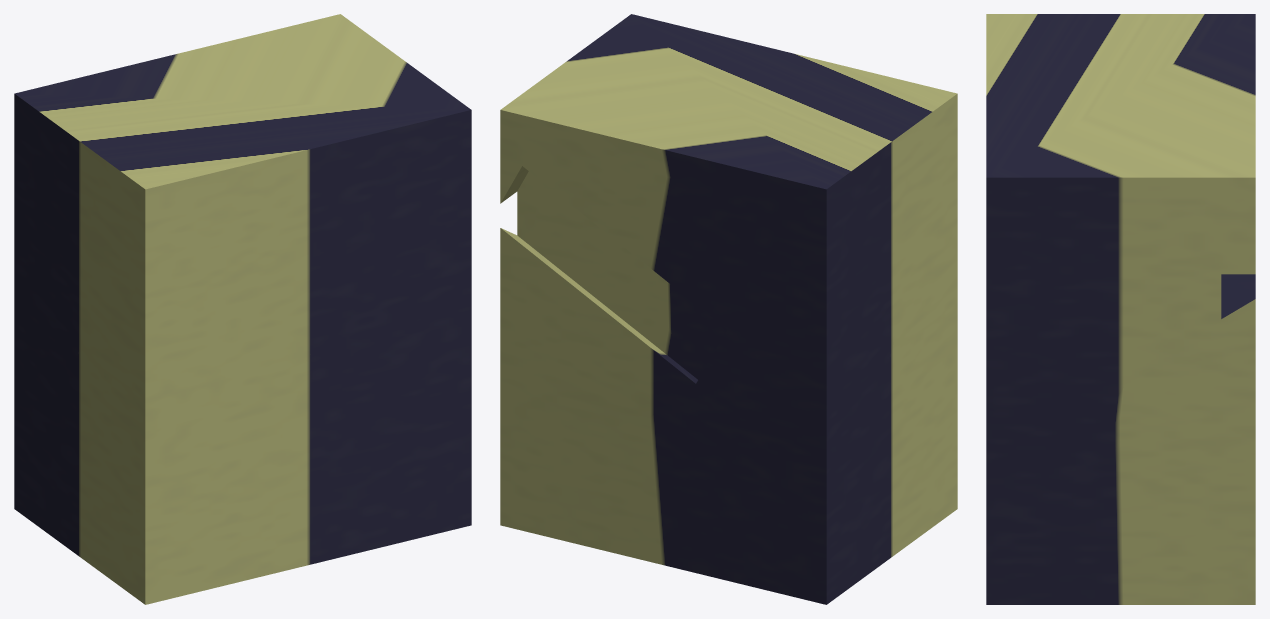
3 views of the same model, side by side, from view 1: azimuth 30°, elevation 25°; view 2: azimuth 150°, elevation 25°; view 3: azimuth 270°, elevation 25° (orthographic). The views are drawn at different scales.
Parts seen in each view (by area): view 1: geometry_0; view 2: geometry_0; view 3: geometry_0.
Part boxes in pixels (box(x1,y1,x2,y2)): geometry_0: box(14, 14, 471, 604); geometry_0: box(500, 14, 957, 604); geometry_0: box(986, 14, 1255, 604).
Size of the model in its own units: 0.8224 by 1 by 0.5721.
Materials: 1 (1 with a texture image).
